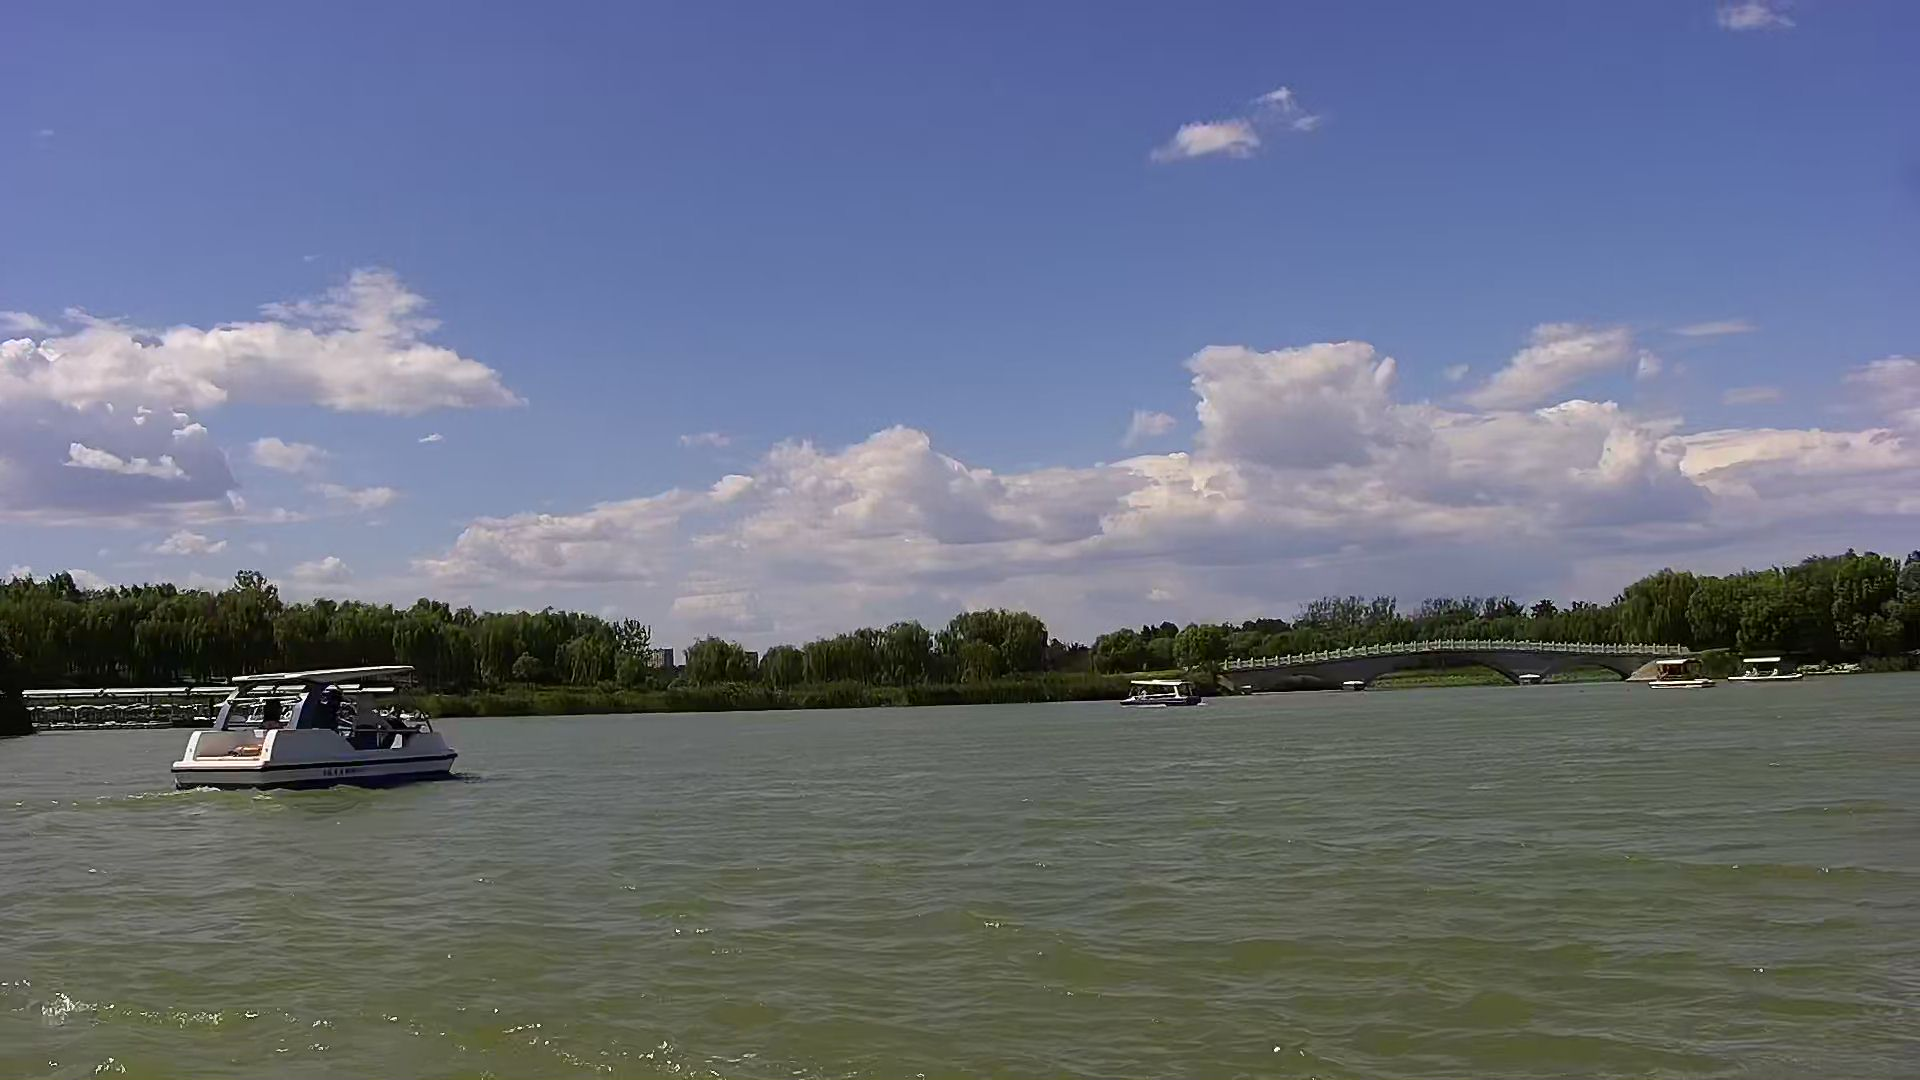boat: (146, 663, 479, 808), (1647, 649, 1801, 700), (1112, 671, 1216, 711)
bridge: (1226, 626, 1638, 705)
